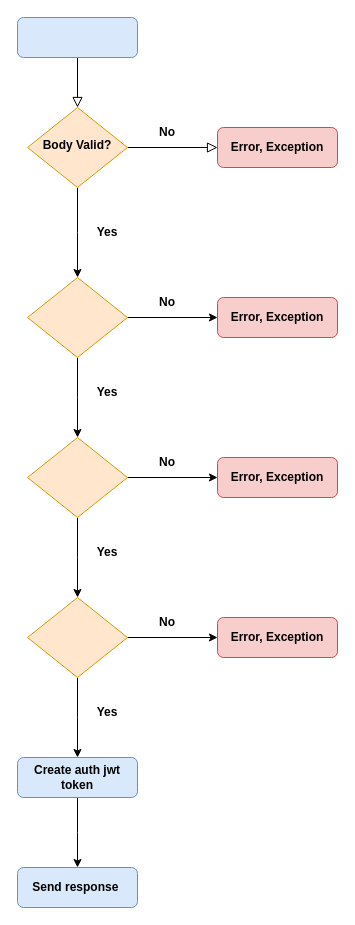
This 355x925 diagram has some shape labels left out. Here are the shapes that lost their labels. From the top down, the centre of each, then its label:
At point (77, 37): "Login request".
At point (77, 317): "Username exist?".
At point (77, 477): "Email exist?".
At point (77, 637): "Password correct?".
